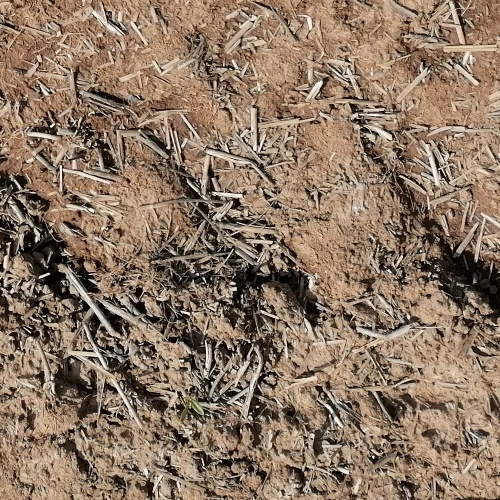beet: (183, 396, 203, 420)
